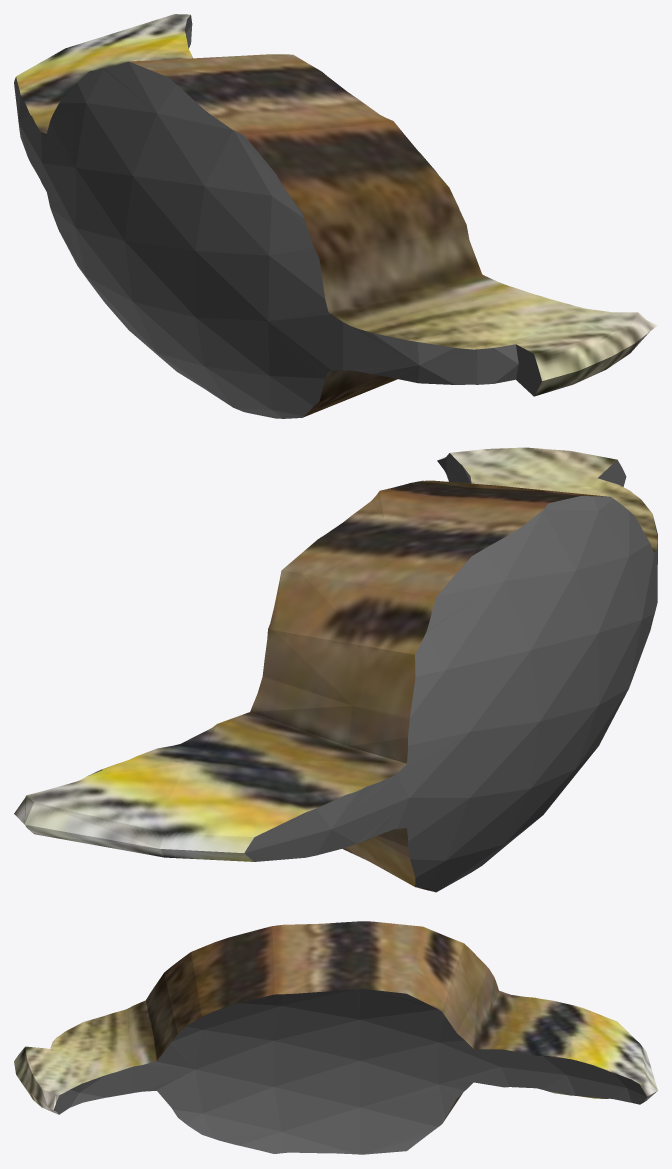
3 renders of one model, top to bottom at view 1: azimuth 30°, elevation 25°; view 2: azimuth 150°, elevation 25°; view 3: azimuth 270°, elevation 25°, orthographic. The views are drawn at different scales.
Visible parts, largest first — view 1: link_9_visual; view 2: link_9_visual; view 3: link_9_visual.
Part boxes in pixels (bbox=[...]): link_9_visual: bbox=[14, 14, 657, 418]; link_9_visual: bbox=[14, 447, 657, 892]; link_9_visual: bbox=[14, 921, 657, 1154].
Bounding box in the file's own units: 0.00163 × 0.00143 × 0.00415.
1 material, 1 textured.
